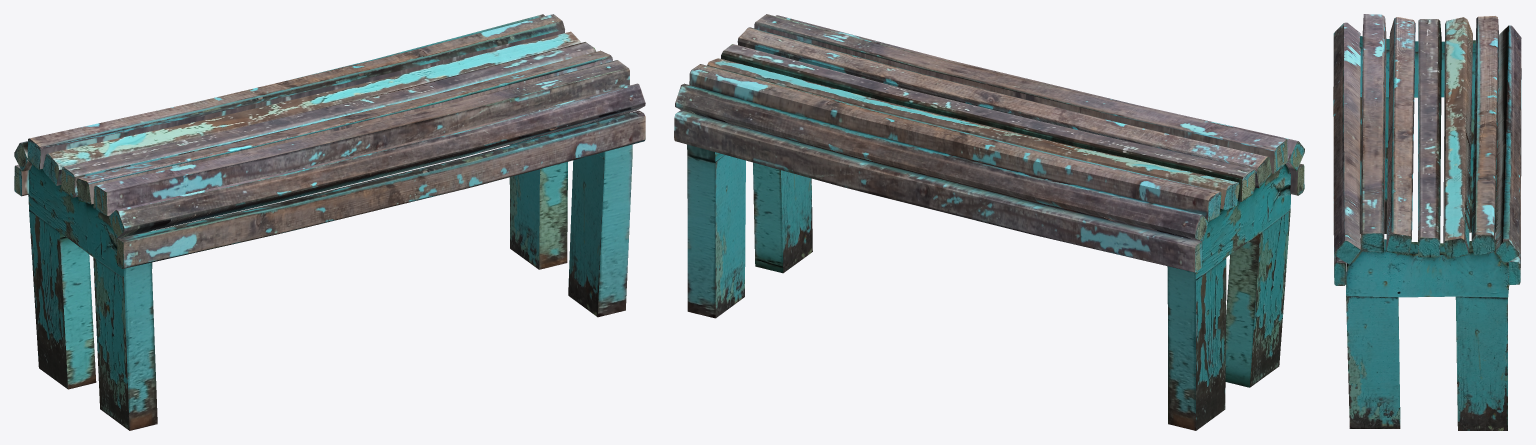
Rendered from bench_wooden_01.glb.
3 renders of one model, left to right at view 1: azimuth 30°, elevation 25°; view 2: azimuth 150°, elevation 25°; view 3: azimuth 270°, elevation 25°, orthographic. The views are drawn at different scales.
Parts seen in each view (by area): view 1: Bench_wooden_01; view 2: Bench_wooden_01; view 3: Bench_wooden_01.
Part boxes in pixels (x1=…): Bench_wooden_01: x1=14, y1=14, x2=645, y2=430; Bench_wooden_01: x1=674, y1=14, x2=1304, y2=430; Bench_wooden_01: x1=1333, y1=14, x2=1521, y2=430.
Size of the model in its own units: 1.08 by 0.4698 by 0.3962.
1 material, 1 textured.
